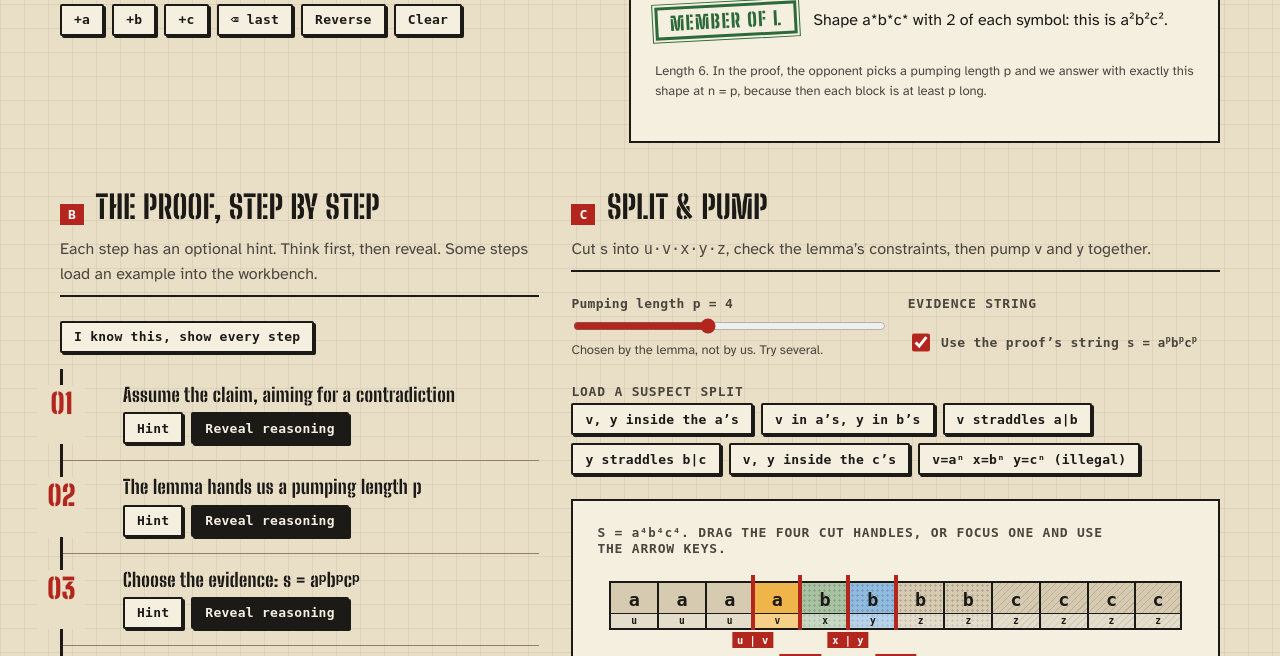
Test: Pumping Paradox page › revealing every proof step marks the claim refuted
This screenshot has width=1280, height=656.
(page scrolled)
Click the button "I know this, show every step". click: {"x": 187, "y": 337}
box: x1=60 y1=321 x2=314 y2=353
(page scrolled)
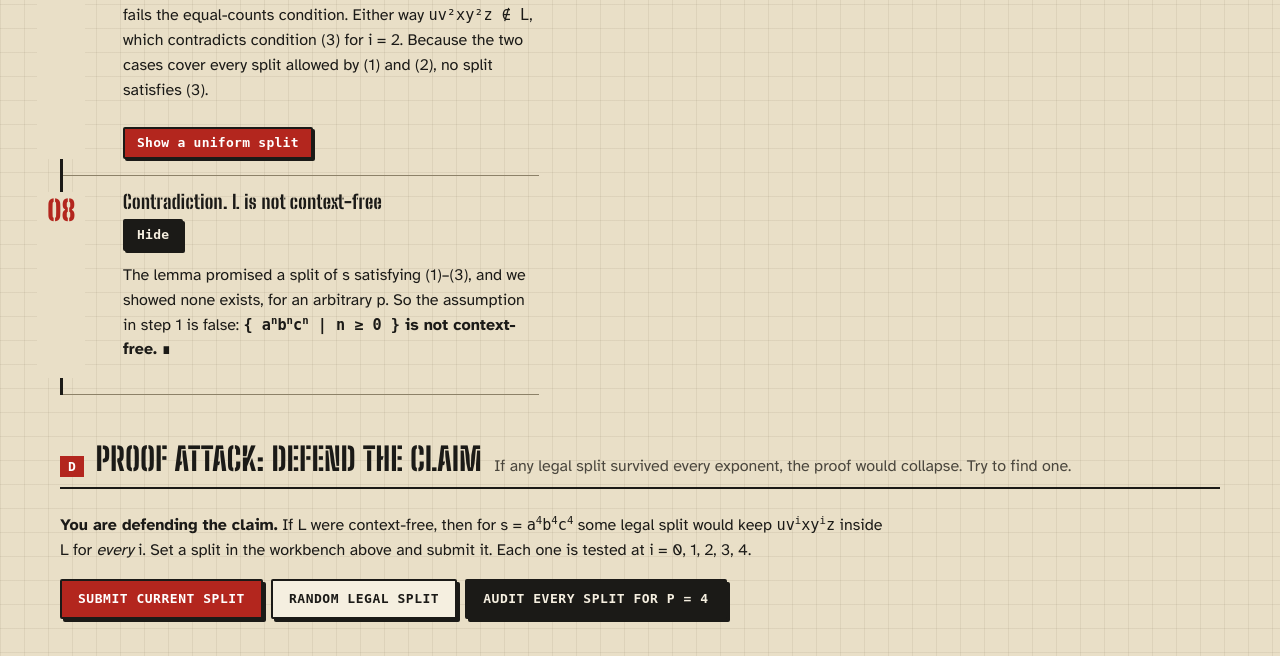
Expected: the text "{ anbncn | n ≥ 0 } is not context-free." is shown, x1=123 y1=314 x2=516 y2=359
